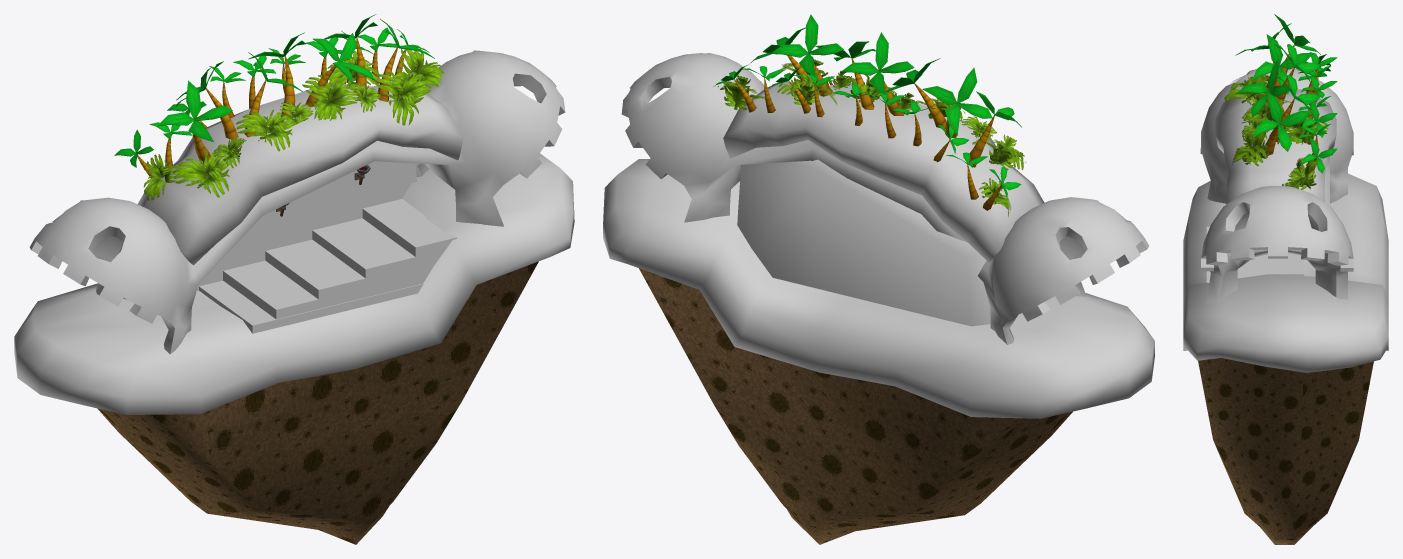
File: Skull_RunThrough.FBX
3 views of the same model, side by side, from view 1: azimuth 30°, elevation 25°; view 2: azimuth 150°, elevation 25°; view 3: azimuth 270°, elevation 25° (orthographic). The views are drawn at different scales.
Parts seen in each view (by area): view 1: Skull_RunThrough, Bush_Jungley003, Bush_Jungley001, Bush_Jungley, Bush_Jungley002, Bush_Jungley007, Bush_Jungley012, Bush_Jungley011; view 2: Skull_RunThrough, Bush_Jungley001, Bush_Jungley011, Bush_Jungley007; view 3: Skull_RunThrough, Bush_Jungley003, Bush_Jungley007, Bush_Jungley002, Bush_Jungley011, Bush_Jungley.
Boxes of the visible parts, x1=… form: Skull_RunThrough: x1=14, y1=14, x2=574, y2=544; Bush_Jungley003: x1=375, y1=71, x2=430, y2=125; Bush_Jungley001: x1=173, y1=150, x2=232, y2=197; Bush_Jungley: x1=302, y1=75, x2=360, y2=120; Bush_Jungley002: x1=236, y1=109, x2=296, y2=151; Bush_Jungley007: x1=390, y1=48, x2=444, y2=88; Bush_Jungley012: x1=143, y1=154, x2=181, y2=200; Bush_Jungley011: x1=323, y1=51, x2=380, y2=87; Skull_RunThrough: x1=603, y1=14, x2=1154, y2=544; Bush_Jungley001: x1=972, y1=134, x2=1026, y2=170; Bush_Jungley011: x1=777, y1=73, x2=837, y2=105; Bush_Jungley007: x1=718, y1=75, x2=765, y2=110; Skull_RunThrough: x1=1183, y1=14, x2=1388, y2=544; Bush_Jungley003: x1=1232, y1=130, x2=1268, y2=166; Bush_Jungley007: x1=1282, y1=157, x2=1322, y2=189; Bush_Jungley002: x1=1224, y1=74, x2=1269, y2=105; Bush_Jungley011: x1=1277, y1=117, x2=1328, y2=144; Bush_Jungley: x1=1241, y1=99, x2=1291, y2=125.
Bounding box in the file's own units: 6965 × 6578 × 2556.
